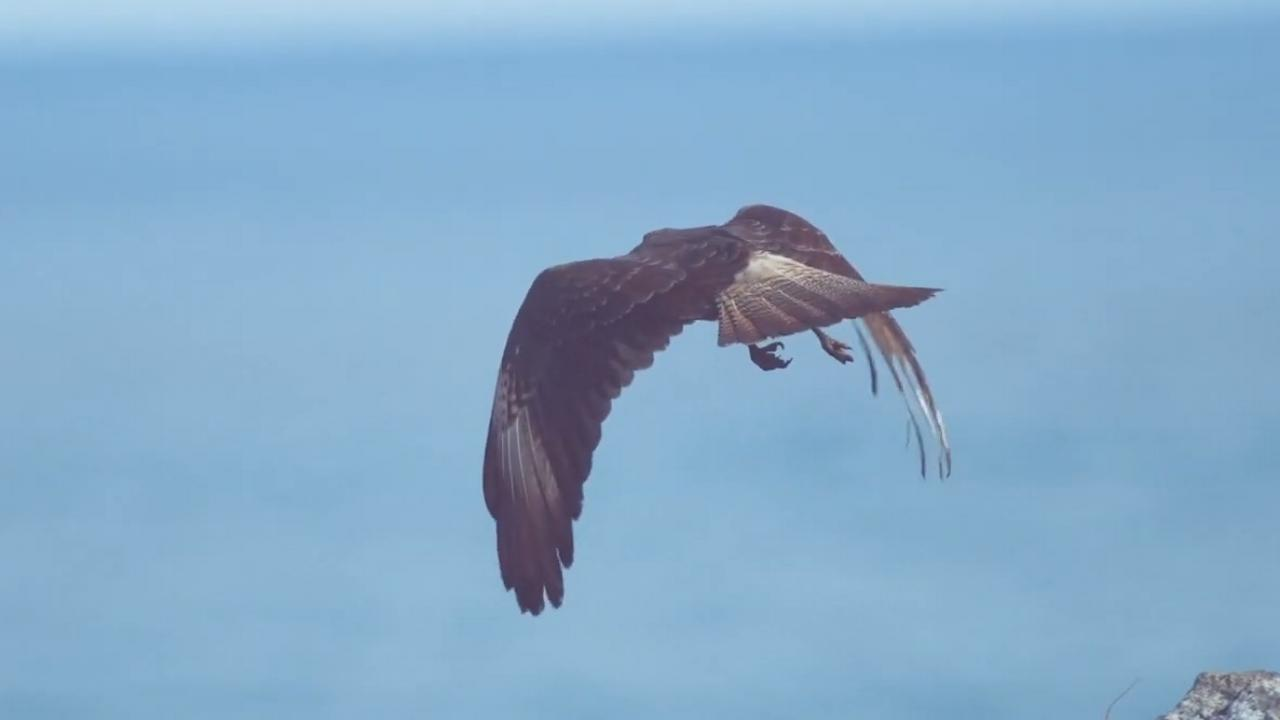Bird: (474, 197, 972, 627)
